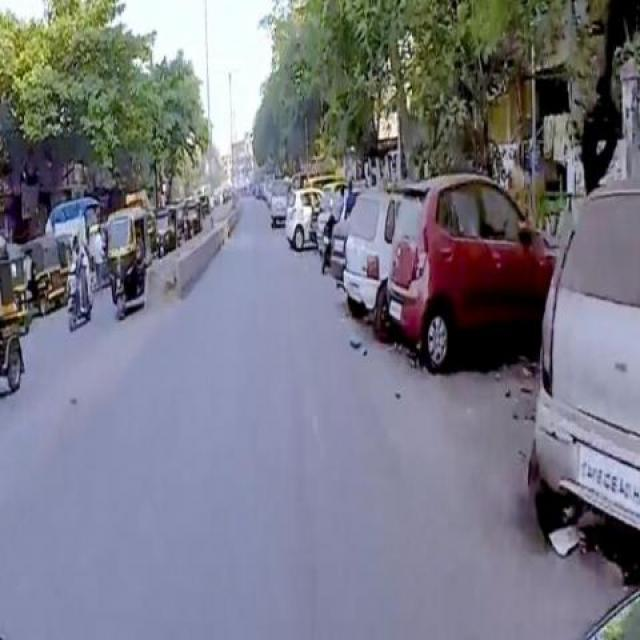Unmarked Bump: (231, 228, 290, 252)
